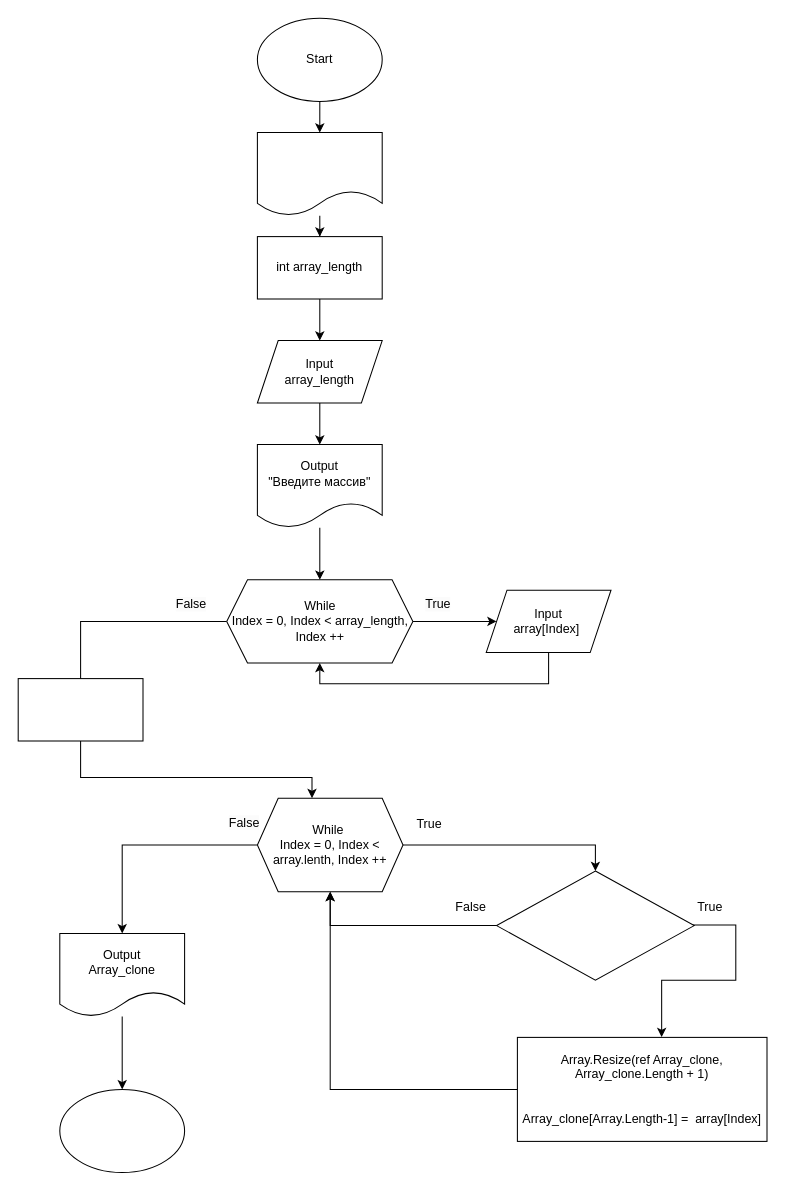
Some shapes in this 785 by 1191 pixel diagram are drawn without their labels. Each missing label, with the box of its shape:
Array_clone[0]: (17, 678, 143, 741)
End: (59, 1088, 185, 1173)
If array[index].Length < 4: (496, 870, 694, 980)
Output "Введите длину массива": (256, 132, 382, 216)
